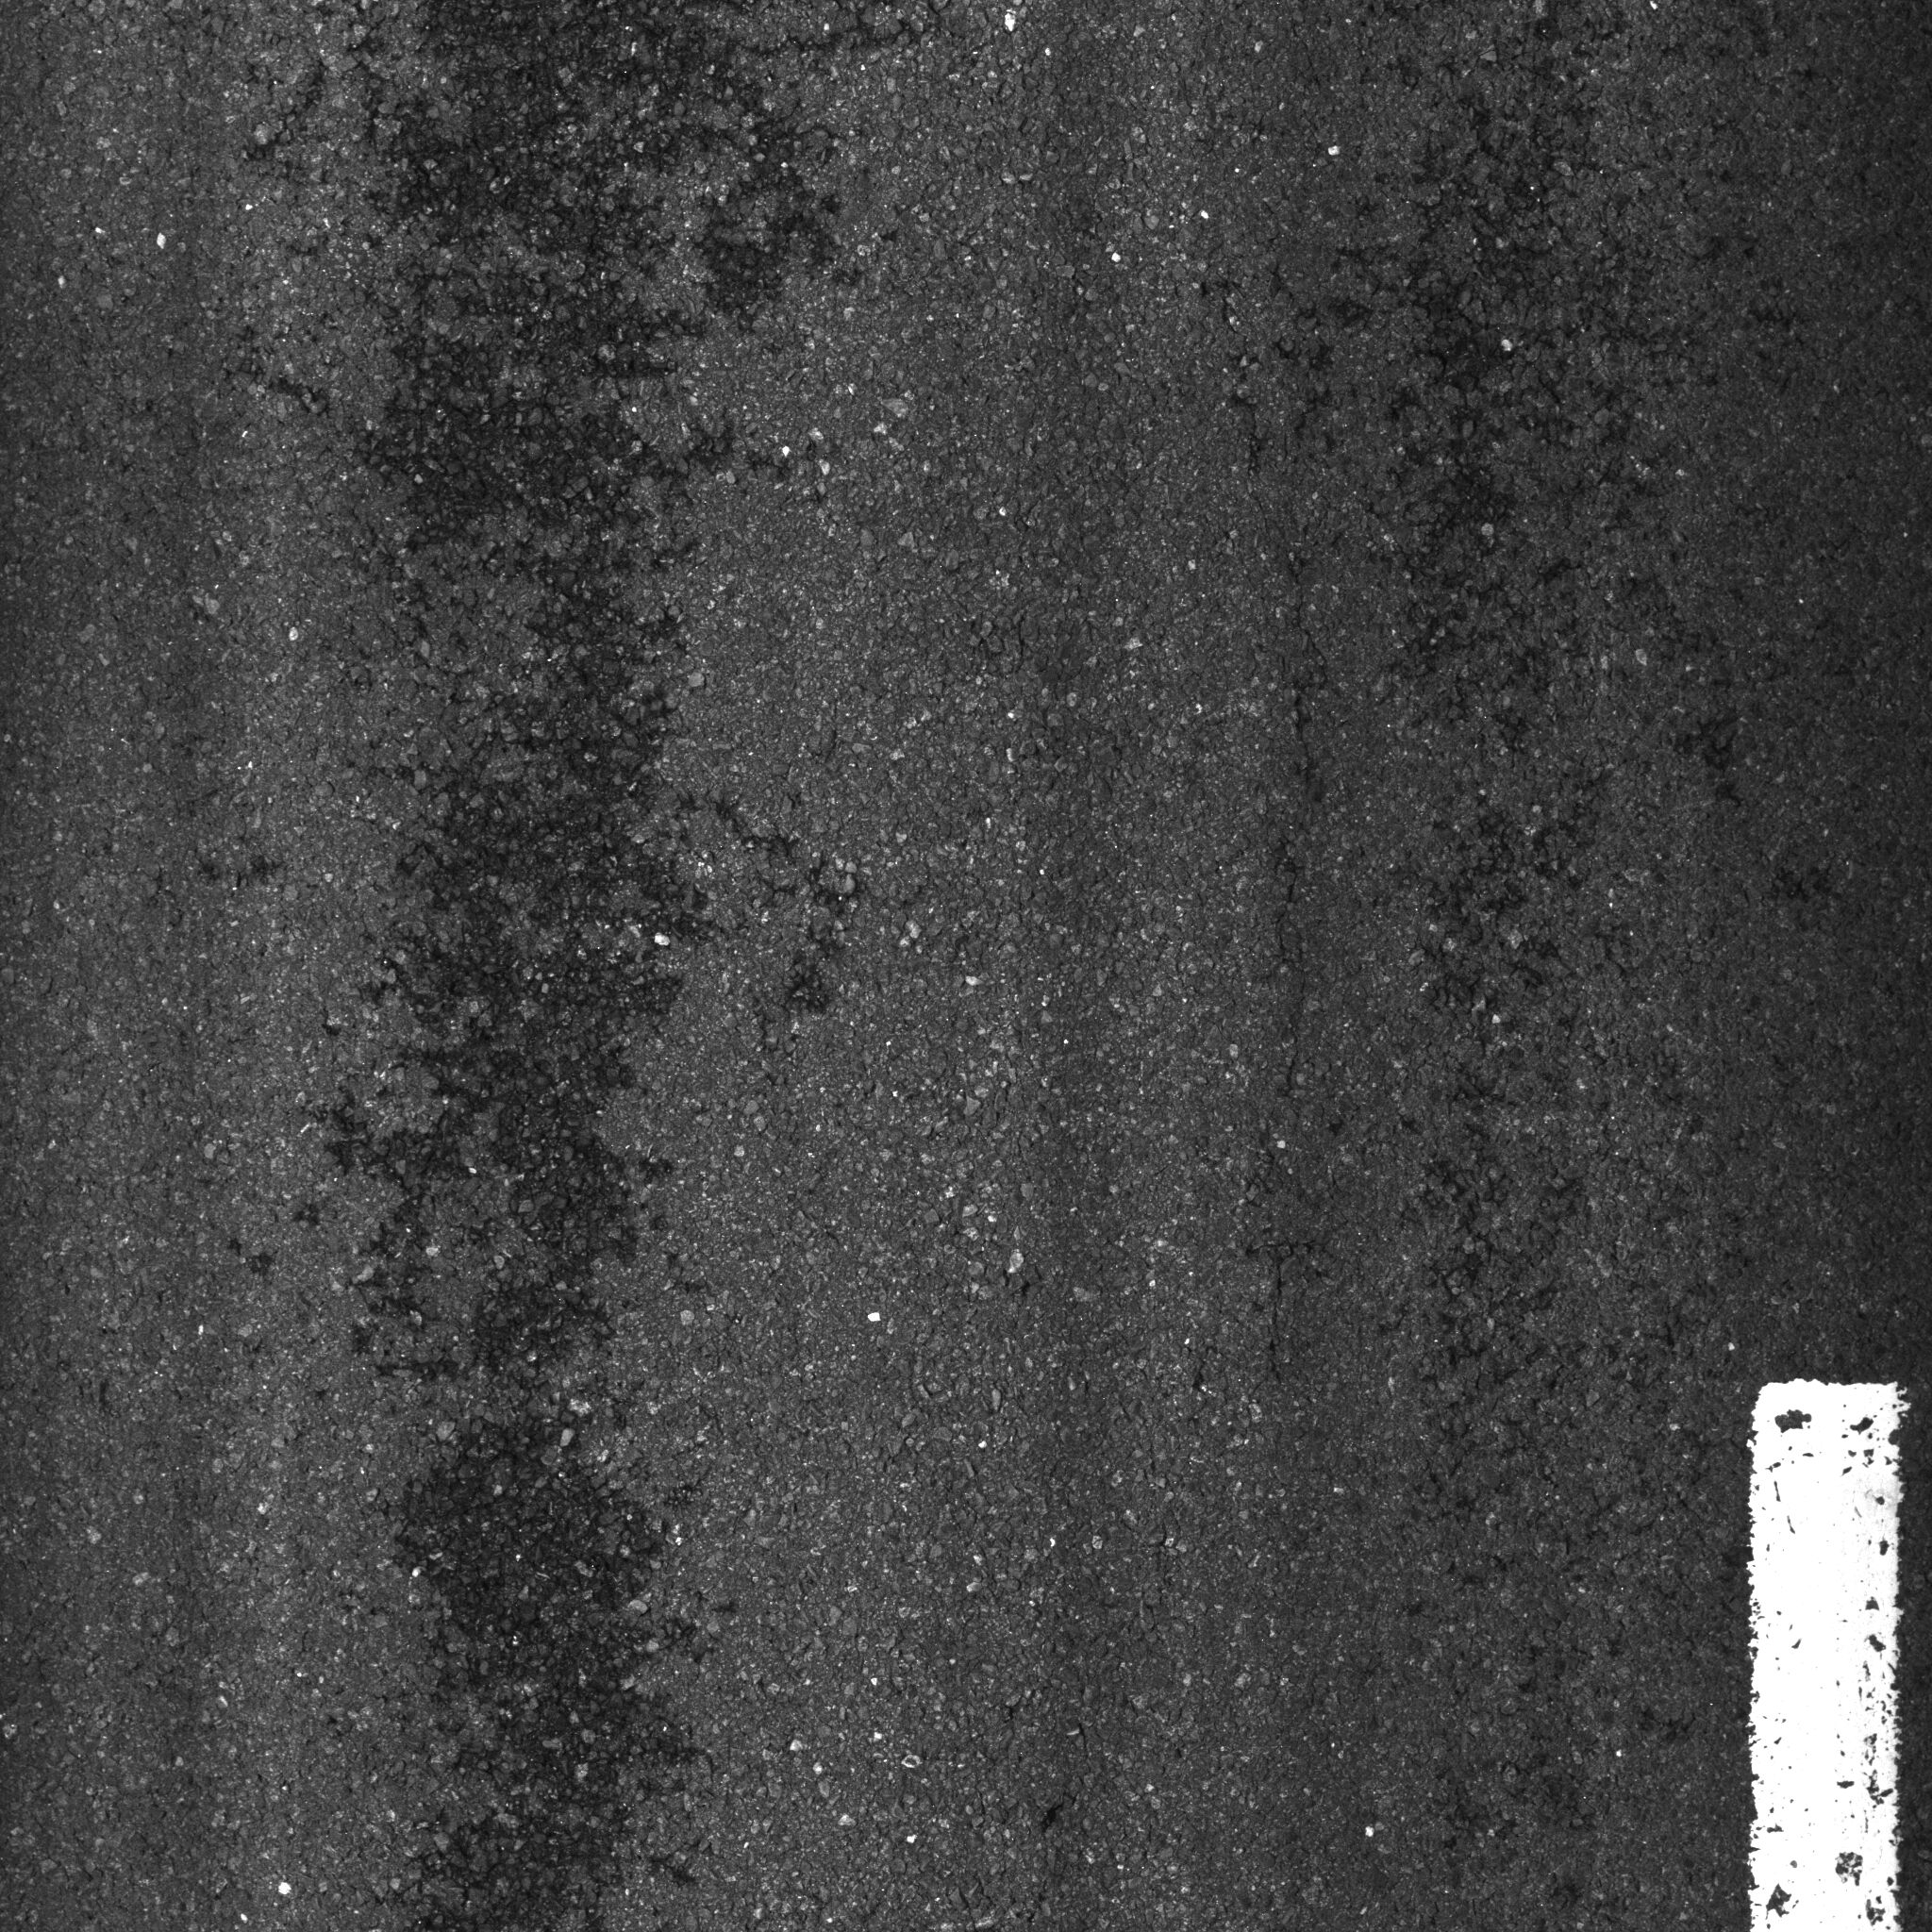longitudinal: (1254, 432, 1350, 1428)
